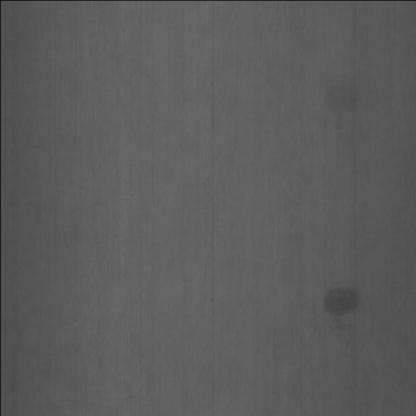oil_spot: (318, 280, 370, 326)
